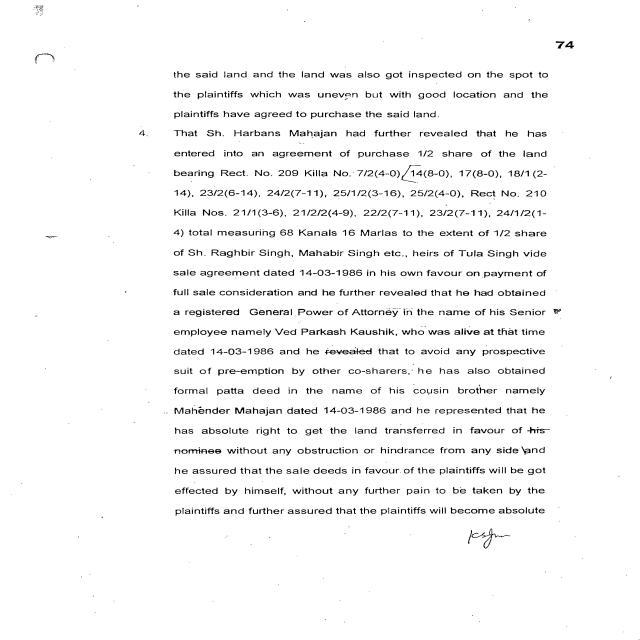page-number: (463, 0, 639, 61)
